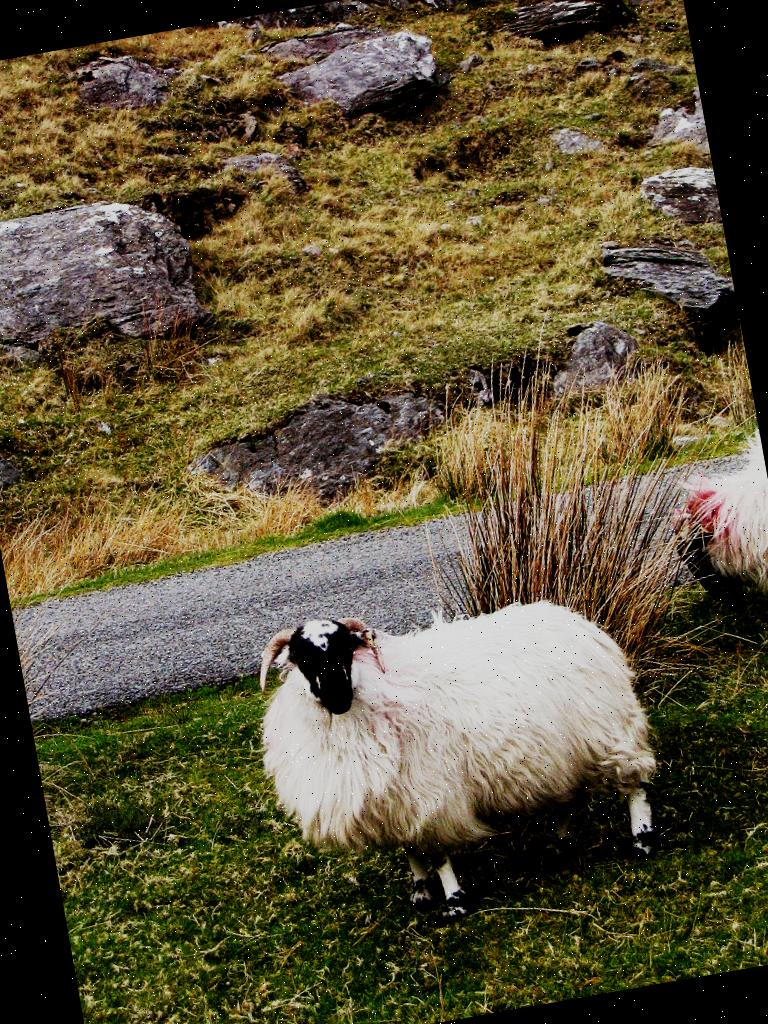Sheep: (237, 559, 712, 939), (662, 422, 768, 617)
